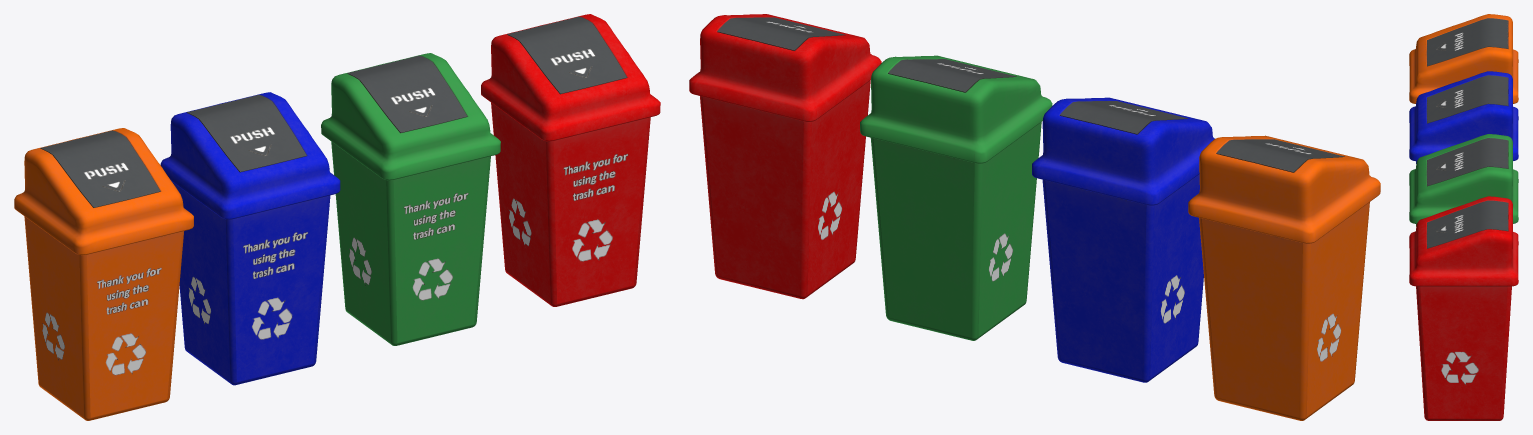
The model's file is smart_bin.glb.
3 renders of one model, left to right at view 1: azimuth 30°, elevation 25°; view 2: azimuth 150°, elevation 25°; view 3: azimuth 270°, elevation 25°, orthographic. The views are drawn at different scales.
Parts seen in each view (by area): view 1: base_4, base_2, base, base_3, door_4, door_2, door, door_3; view 2: base_4, base_2, base, base_3, door_4, door_2, door, door_3; view 3: base, door, door_3, door_2, door_4.
Boxes of the visible parts, x1,y1,x2,y2 form: base_4: [24, 216, 183, 420]; base_2: [331, 141, 490, 345]; base: [491, 102, 650, 306]; base_3: [171, 181, 330, 385]; door_4: [14, 128, 193, 255]; door_2: [321, 53, 500, 180]; door: [481, 14, 660, 141]; door_3: [160, 92, 340, 219]; base_4: [1199, 202, 1369, 420]; base_2: [870, 122, 1041, 340]; base: [700, 80, 870, 299]; base_3: [1042, 174, 1203, 382]; door_4: [1188, 135, 1380, 243]; door_2: [860, 55, 1052, 163]; door: [689, 14, 881, 121]; door_3: [1032, 97, 1214, 205]; base: [1416, 286, 1511, 420]; door: [1409, 196, 1518, 286]; door_3: [1409, 71, 1518, 161]; door_2: [1409, 134, 1518, 223]; door_4: [1409, 14, 1518, 103].
Bounding box in the file's own units: 6.85 × 2.67 × 1.38.
Materials: 4 (4 with a texture image).
